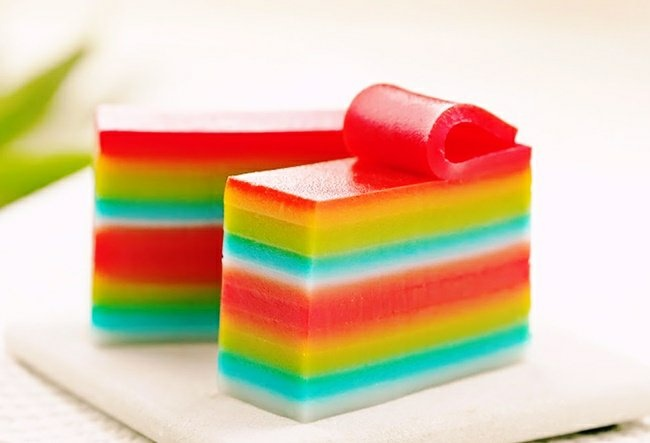kue_lapis_pelangi: (221, 90, 529, 422)
